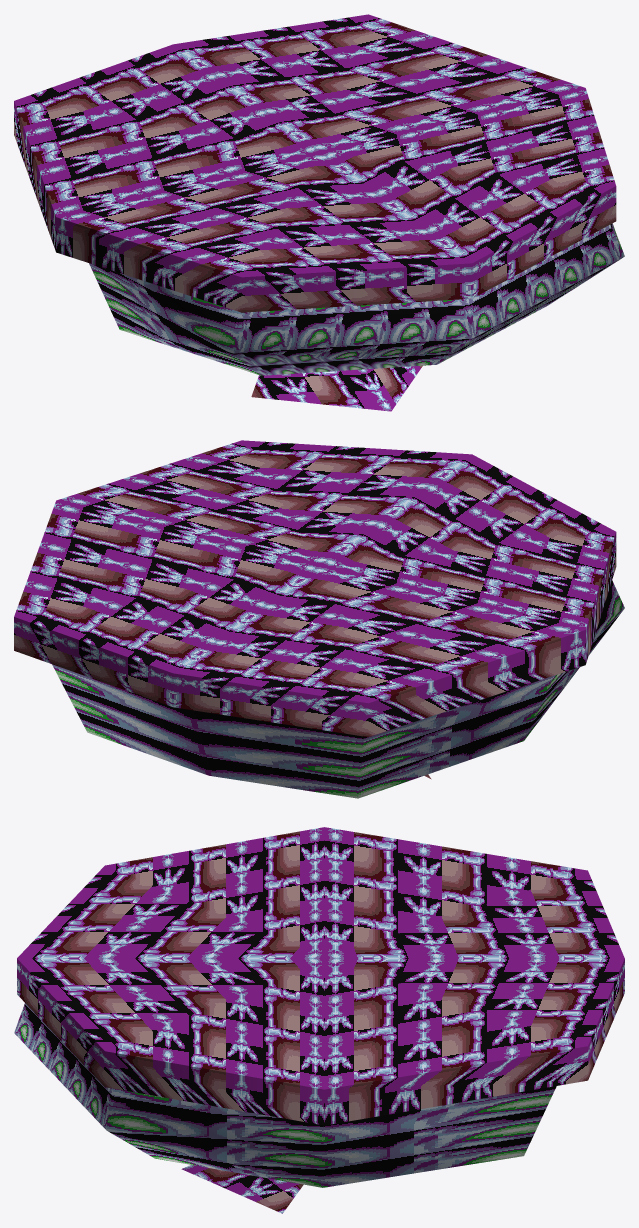
3 renders of one model, top to bottom at view 1: azimuth 30°, elevation 25°; view 2: azimuth 150°, elevation 25°; view 3: azimuth 270°, elevation 25°, orthographic.
Parts seen in each view (by area): view 1: 3608kg_19_ta0; view 2: 3608kg_19_ta0; view 3: 3608kg_19_ta0.
Part boxes in pixels (x1,y1,x2,y2): 3608kg_19_ta0: [14, 14, 624, 411]; 3608kg_19_ta0: [14, 440, 624, 798]; 3608kg_19_ta0: [14, 827, 624, 1213].
Bounding box in the file's own units: 2 × 0.749 × 1.97.
Materials: 2 (2 with a texture image).
